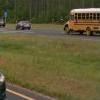Bus: (58, 5, 100, 42)
